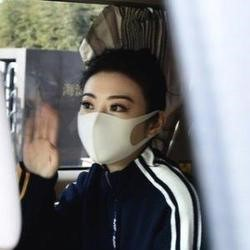mask: (71, 101, 157, 170)
